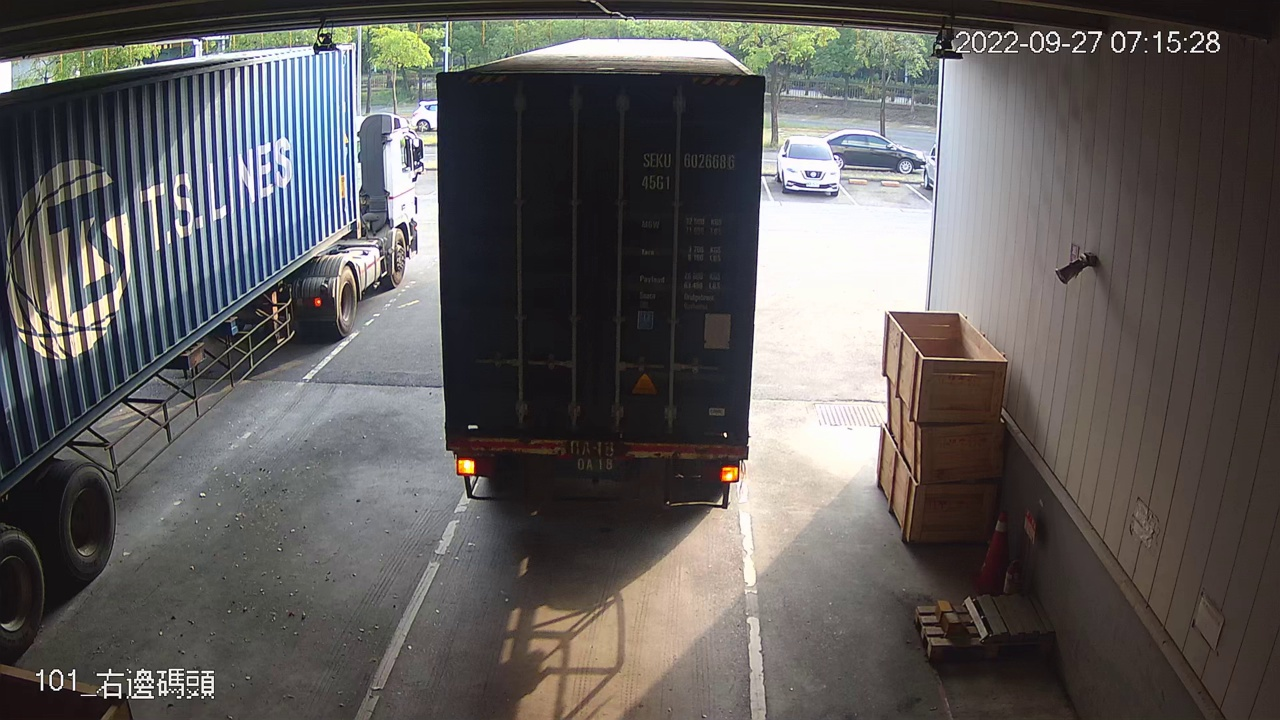container: (636, 144, 740, 200)
